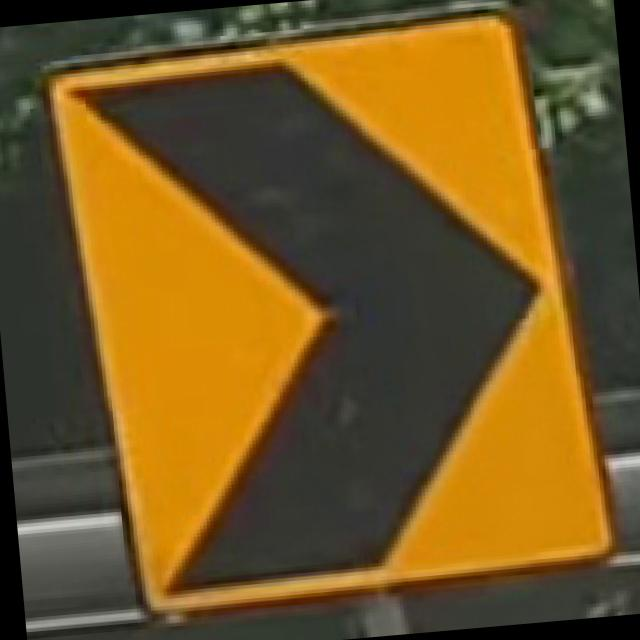curveright_sign: (30, 0, 624, 623)
